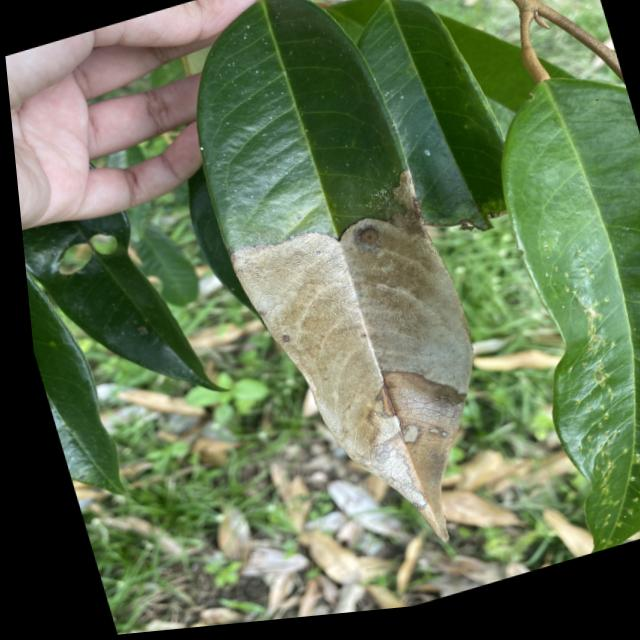Leaf Blight: (204, 148, 605, 591)
